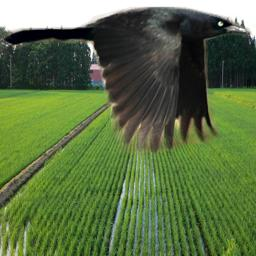Crow: (3, 4, 253, 155)
